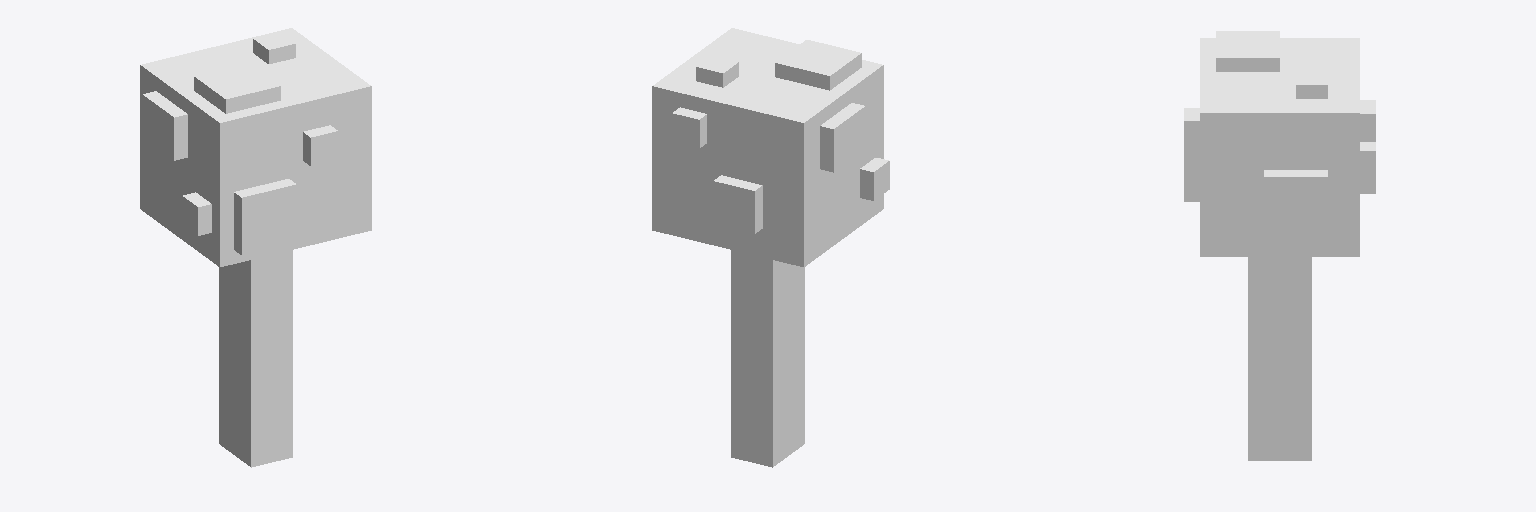
The model's file is Tree_Medium.obj.
The picture shows the model from 3 angles: view 1: azimuth 30°, elevation 25°; view 2: azimuth 150°, elevation 25°; view 3: azimuth 270°, elevation 25°; orthographic projection.
Visible parts, largest first — view 1: Tree_Medium; view 2: Tree_Medium; view 3: Tree_Medium.
Boxes of the visible parts, box(x1,y1,x2,y2) form: Tree_Medium: box(140, 28, 371, 467); Tree_Medium: box(652, 28, 889, 467); Tree_Medium: box(1184, 31, 1375, 460).
Bounding box in the file's own units: 13 × 27 × 12.